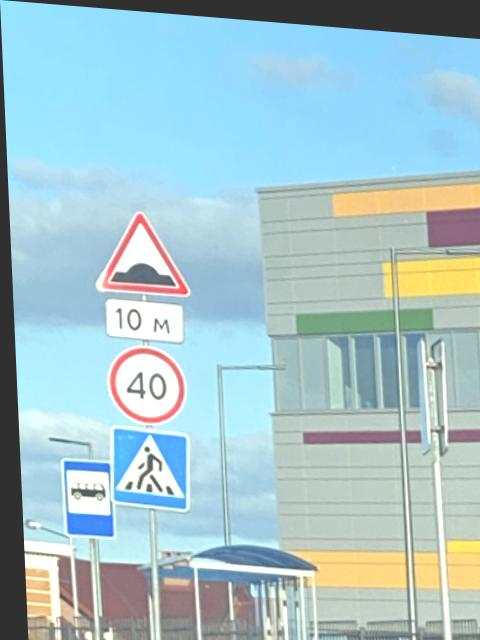limit40: (100, 339, 188, 426)
